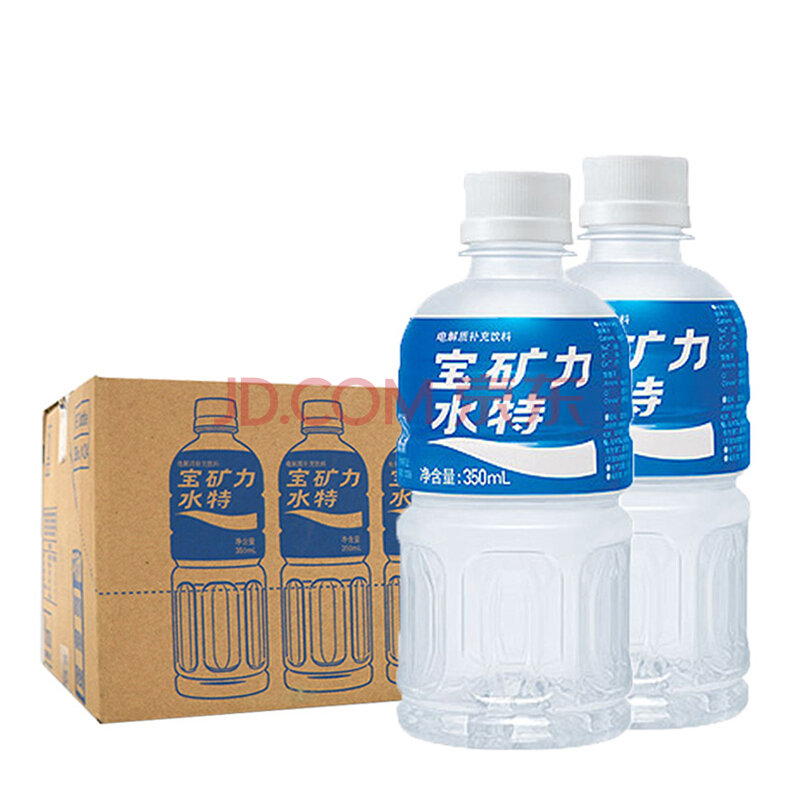POCARI SWEAT: (382, 159, 638, 763)
